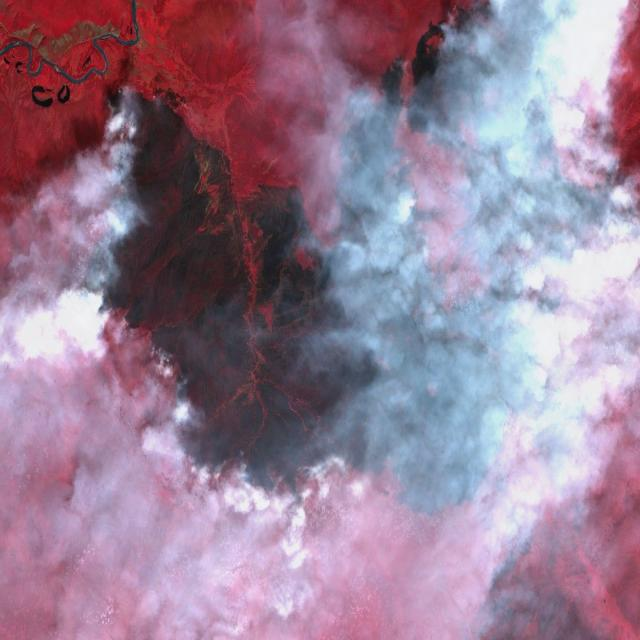fire: (71, 78, 640, 530)
